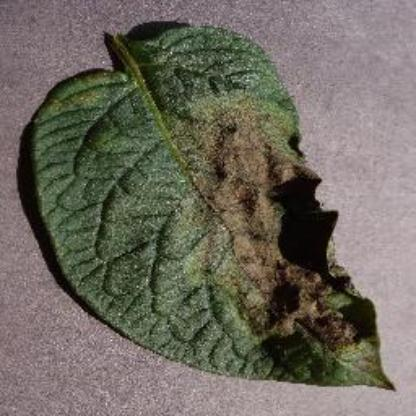Late-Blight: (21, 19, 397, 396)
